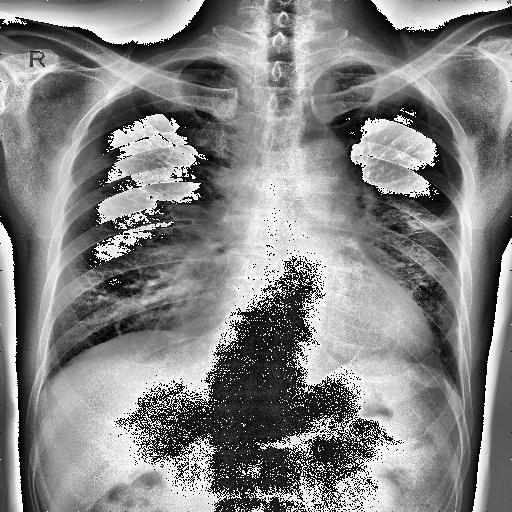0- Aortic enlargement: (284, 138, 356, 226), (280, 141, 354, 215), (285, 136, 356, 208)
13- Pulmonary fibrosis: (382, 202, 468, 235), (396, 214, 458, 235)
3- Cardiomegaly: (188, 298, 434, 374), (208, 282, 432, 362), (197, 292, 437, 366)
